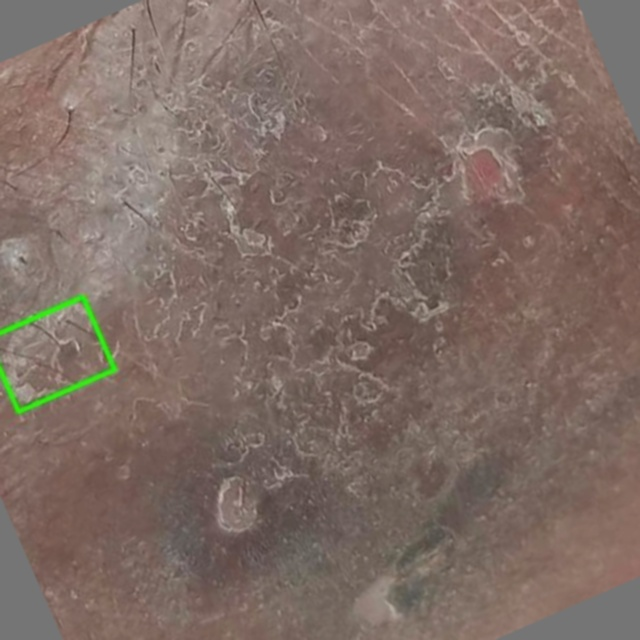Eczema: (0, 296, 114, 411)
